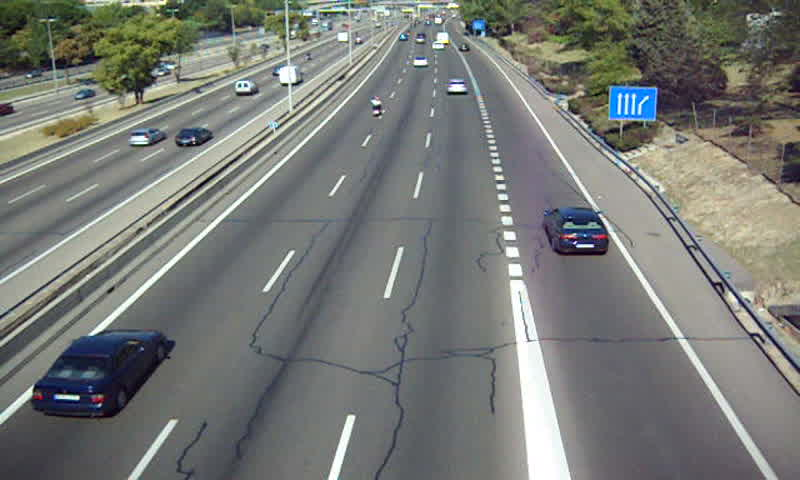car: (31, 329, 165, 417), (543, 208, 609, 254), (447, 78, 470, 94)
motorcycle: (368, 94, 384, 118)
